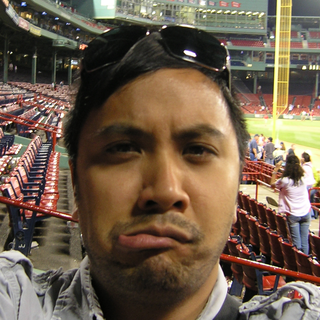eye: (99, 138, 147, 161), (177, 139, 223, 162)
